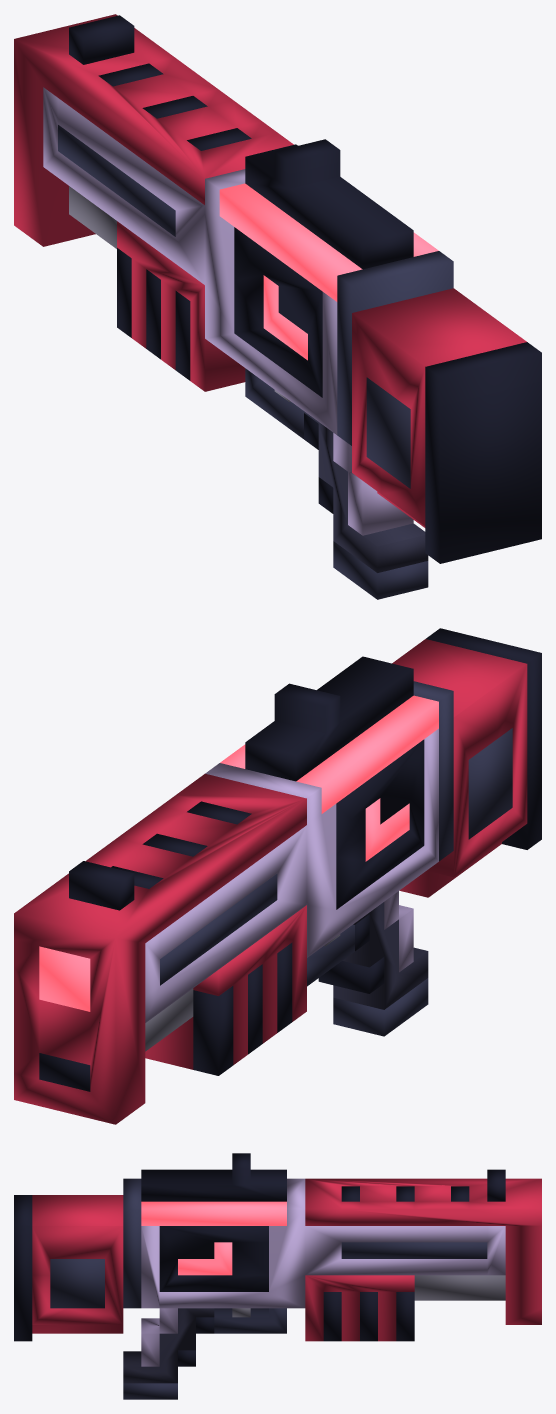
File: shotgun.lod1.glb
The picture shows the model from 3 angles, top to bottom: view 1: azimuth 30°, elevation 25°; view 2: azimuth 150°, elevation 25°; view 3: azimuth 270°, elevation 25°; orthographic projection. The views are drawn at different scales.
Visible parts, largest first — view 1: shotgun.body, part.pump; view 2: shotgun.body, part.pump; view 3: shotgun.body, part.pump.
Boxes of the visible parts, left/top/right/bottom form: shotgun.body: left=14, top=14, right=541, bottom=599; part.pump: left=117, top=221, right=245, bottom=391; shotgun.body: left=14, top=628, right=541, bottom=1124; part.pump: left=145, top=905, right=306, bottom=1075; shotgun.body: left=14, top=1153, right=541, bottom=1399; part.pump: left=305, top=1275, right=414, bottom=1341.
Size of the model in its own units: 0.125 by 0.4375 by 0.9062.
